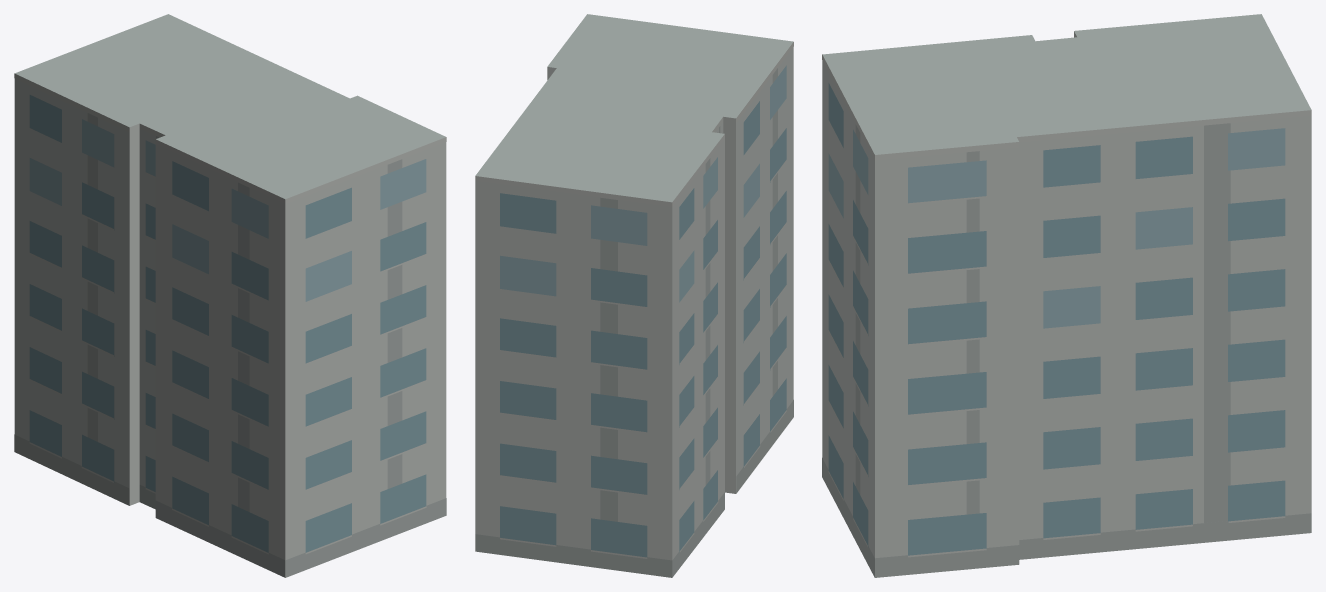
Rendered from survey-upis-32610271.glb.
3 renders of one model, left to right at view 1: azimuth 30°, elevation 25°; view 2: azimuth 150°, elevation 25°; view 3: azimuth 270°, elevation 25°, orthographic. The views are drawn at different scales.
Visible parts, largest first — view 1: survey-upis-32610271.tmp; view 2: survey-upis-32610271.tmp; view 3: survey-upis-32610271.tmp.
Part boxes in pixels (left/top/right/bottom): survey-upis-32610271.tmp: left=14, top=14, right=446, bottom=577; survey-upis-32610271.tmp: left=475, top=14, right=793, bottom=577; survey-upis-32610271.tmp: left=822, top=14, right=1311, bottom=577.
Bounding box in the file's own units: 13.1 × 18.3 × 19.21.
